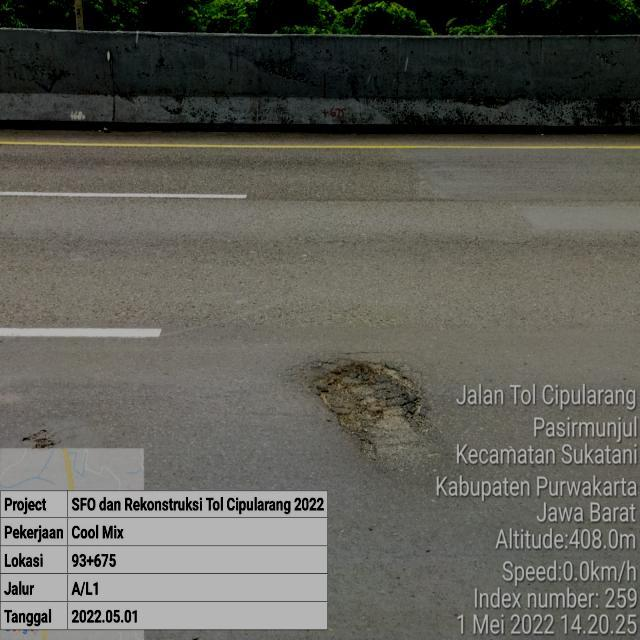Buraco: (286, 354, 438, 466)
